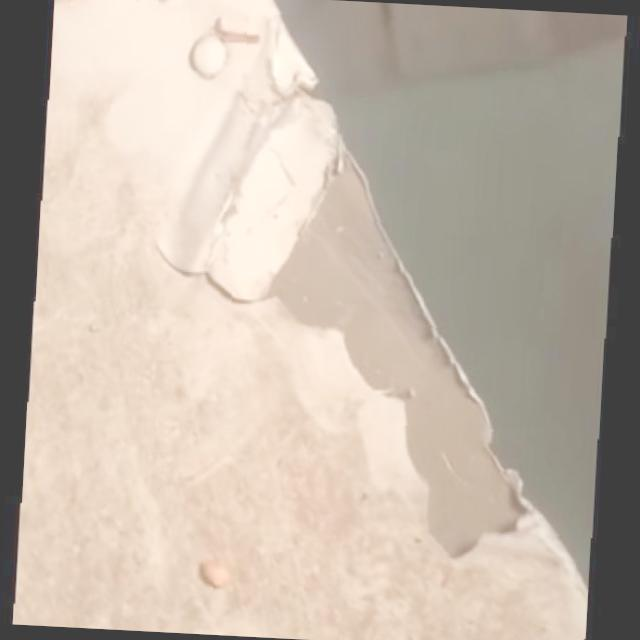crack: (155, 244, 267, 305)
dent: (49, 0, 539, 563)
